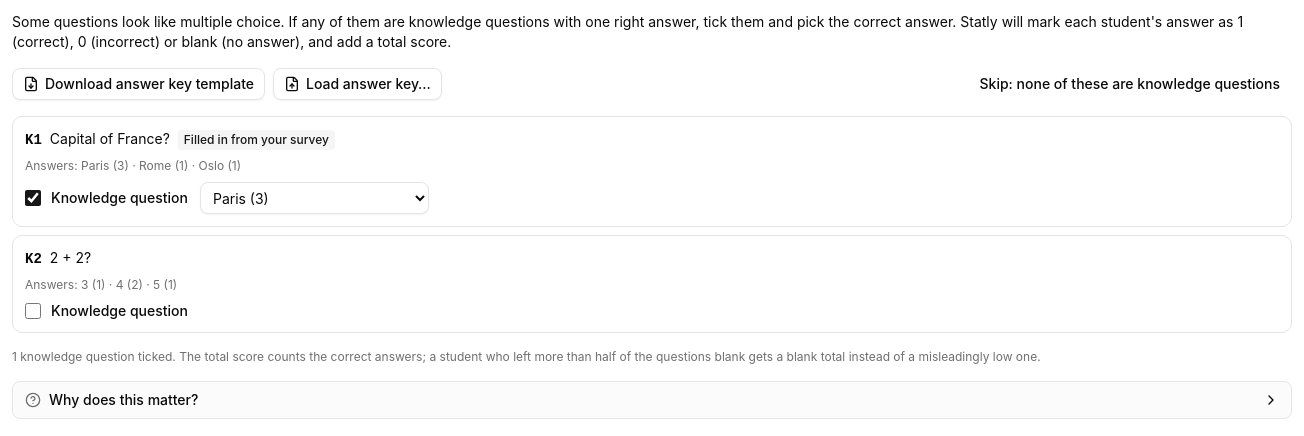
Test: StepKnowledge › pre-ticks and pre-selects scored survey questions, marked as filled in from the survey
expect the checkbox named "Knowledge question: K1" is checked: met, box [25, 190, 41, 206]
expect the text with test id "knowledge-filled-K1" reads "Filled in from your survey": met, box [184, 132, 329, 147]
Select "Rome (1)" in the dropdown named "Correct answer for K1". click: (314, 198)
box: [200, 182, 429, 214]
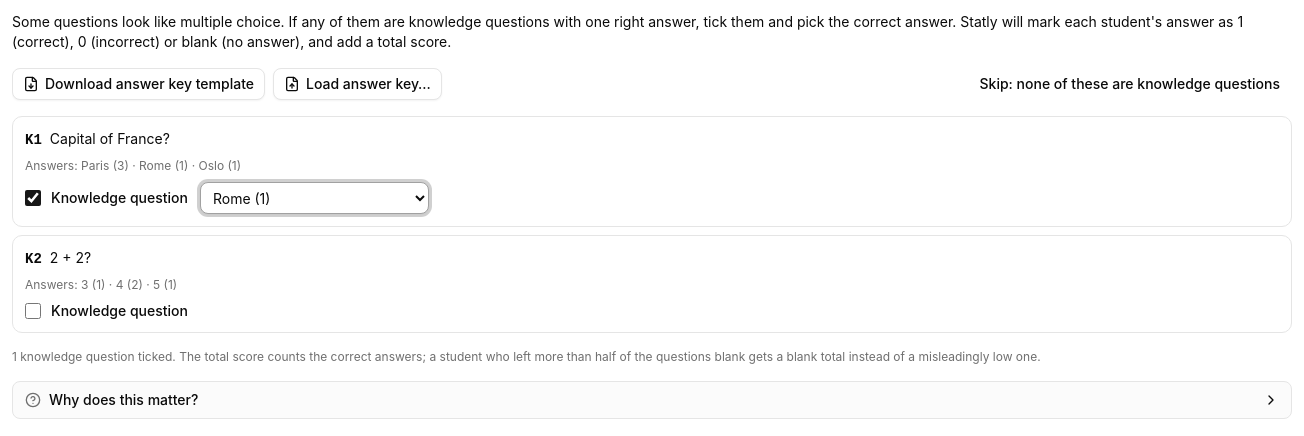
expect the text with test id "knowledge-filled-K1" is gone: met
